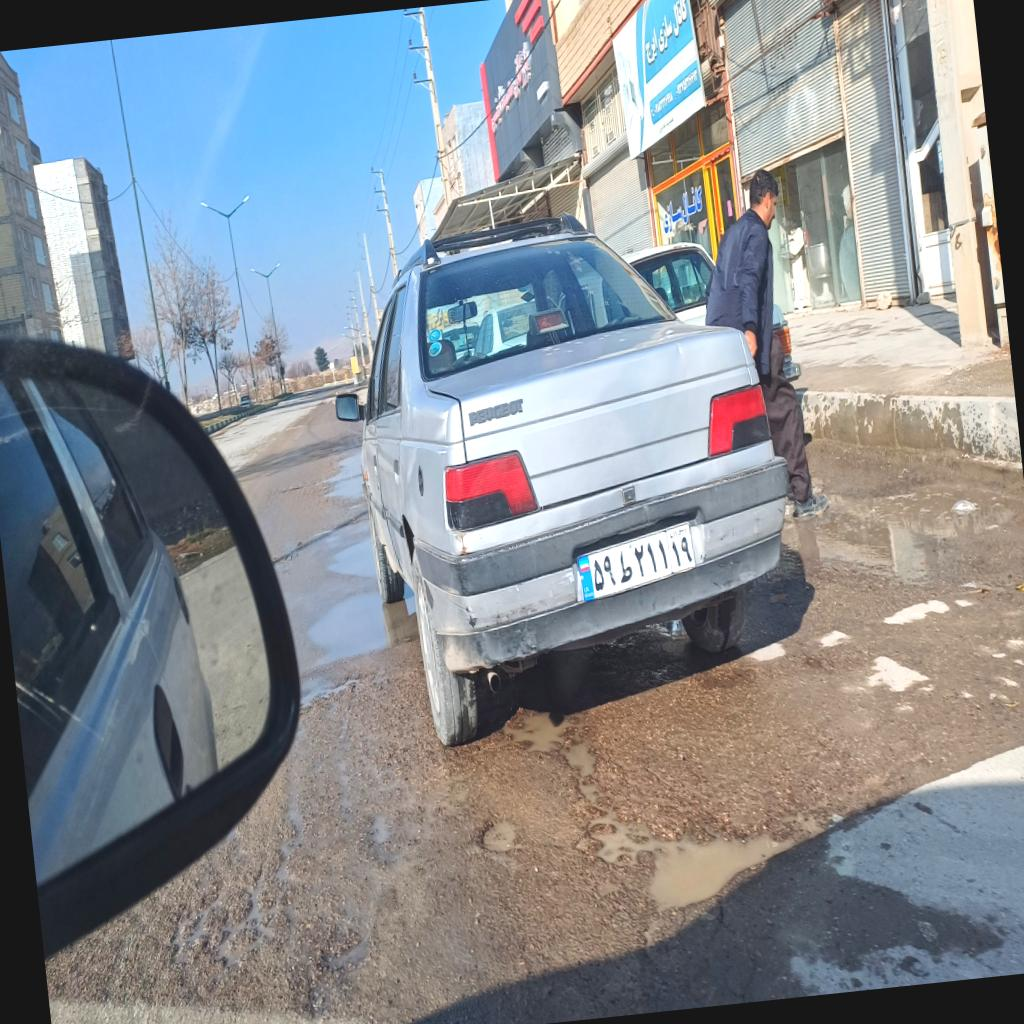Plates: (572, 520, 698, 602)
